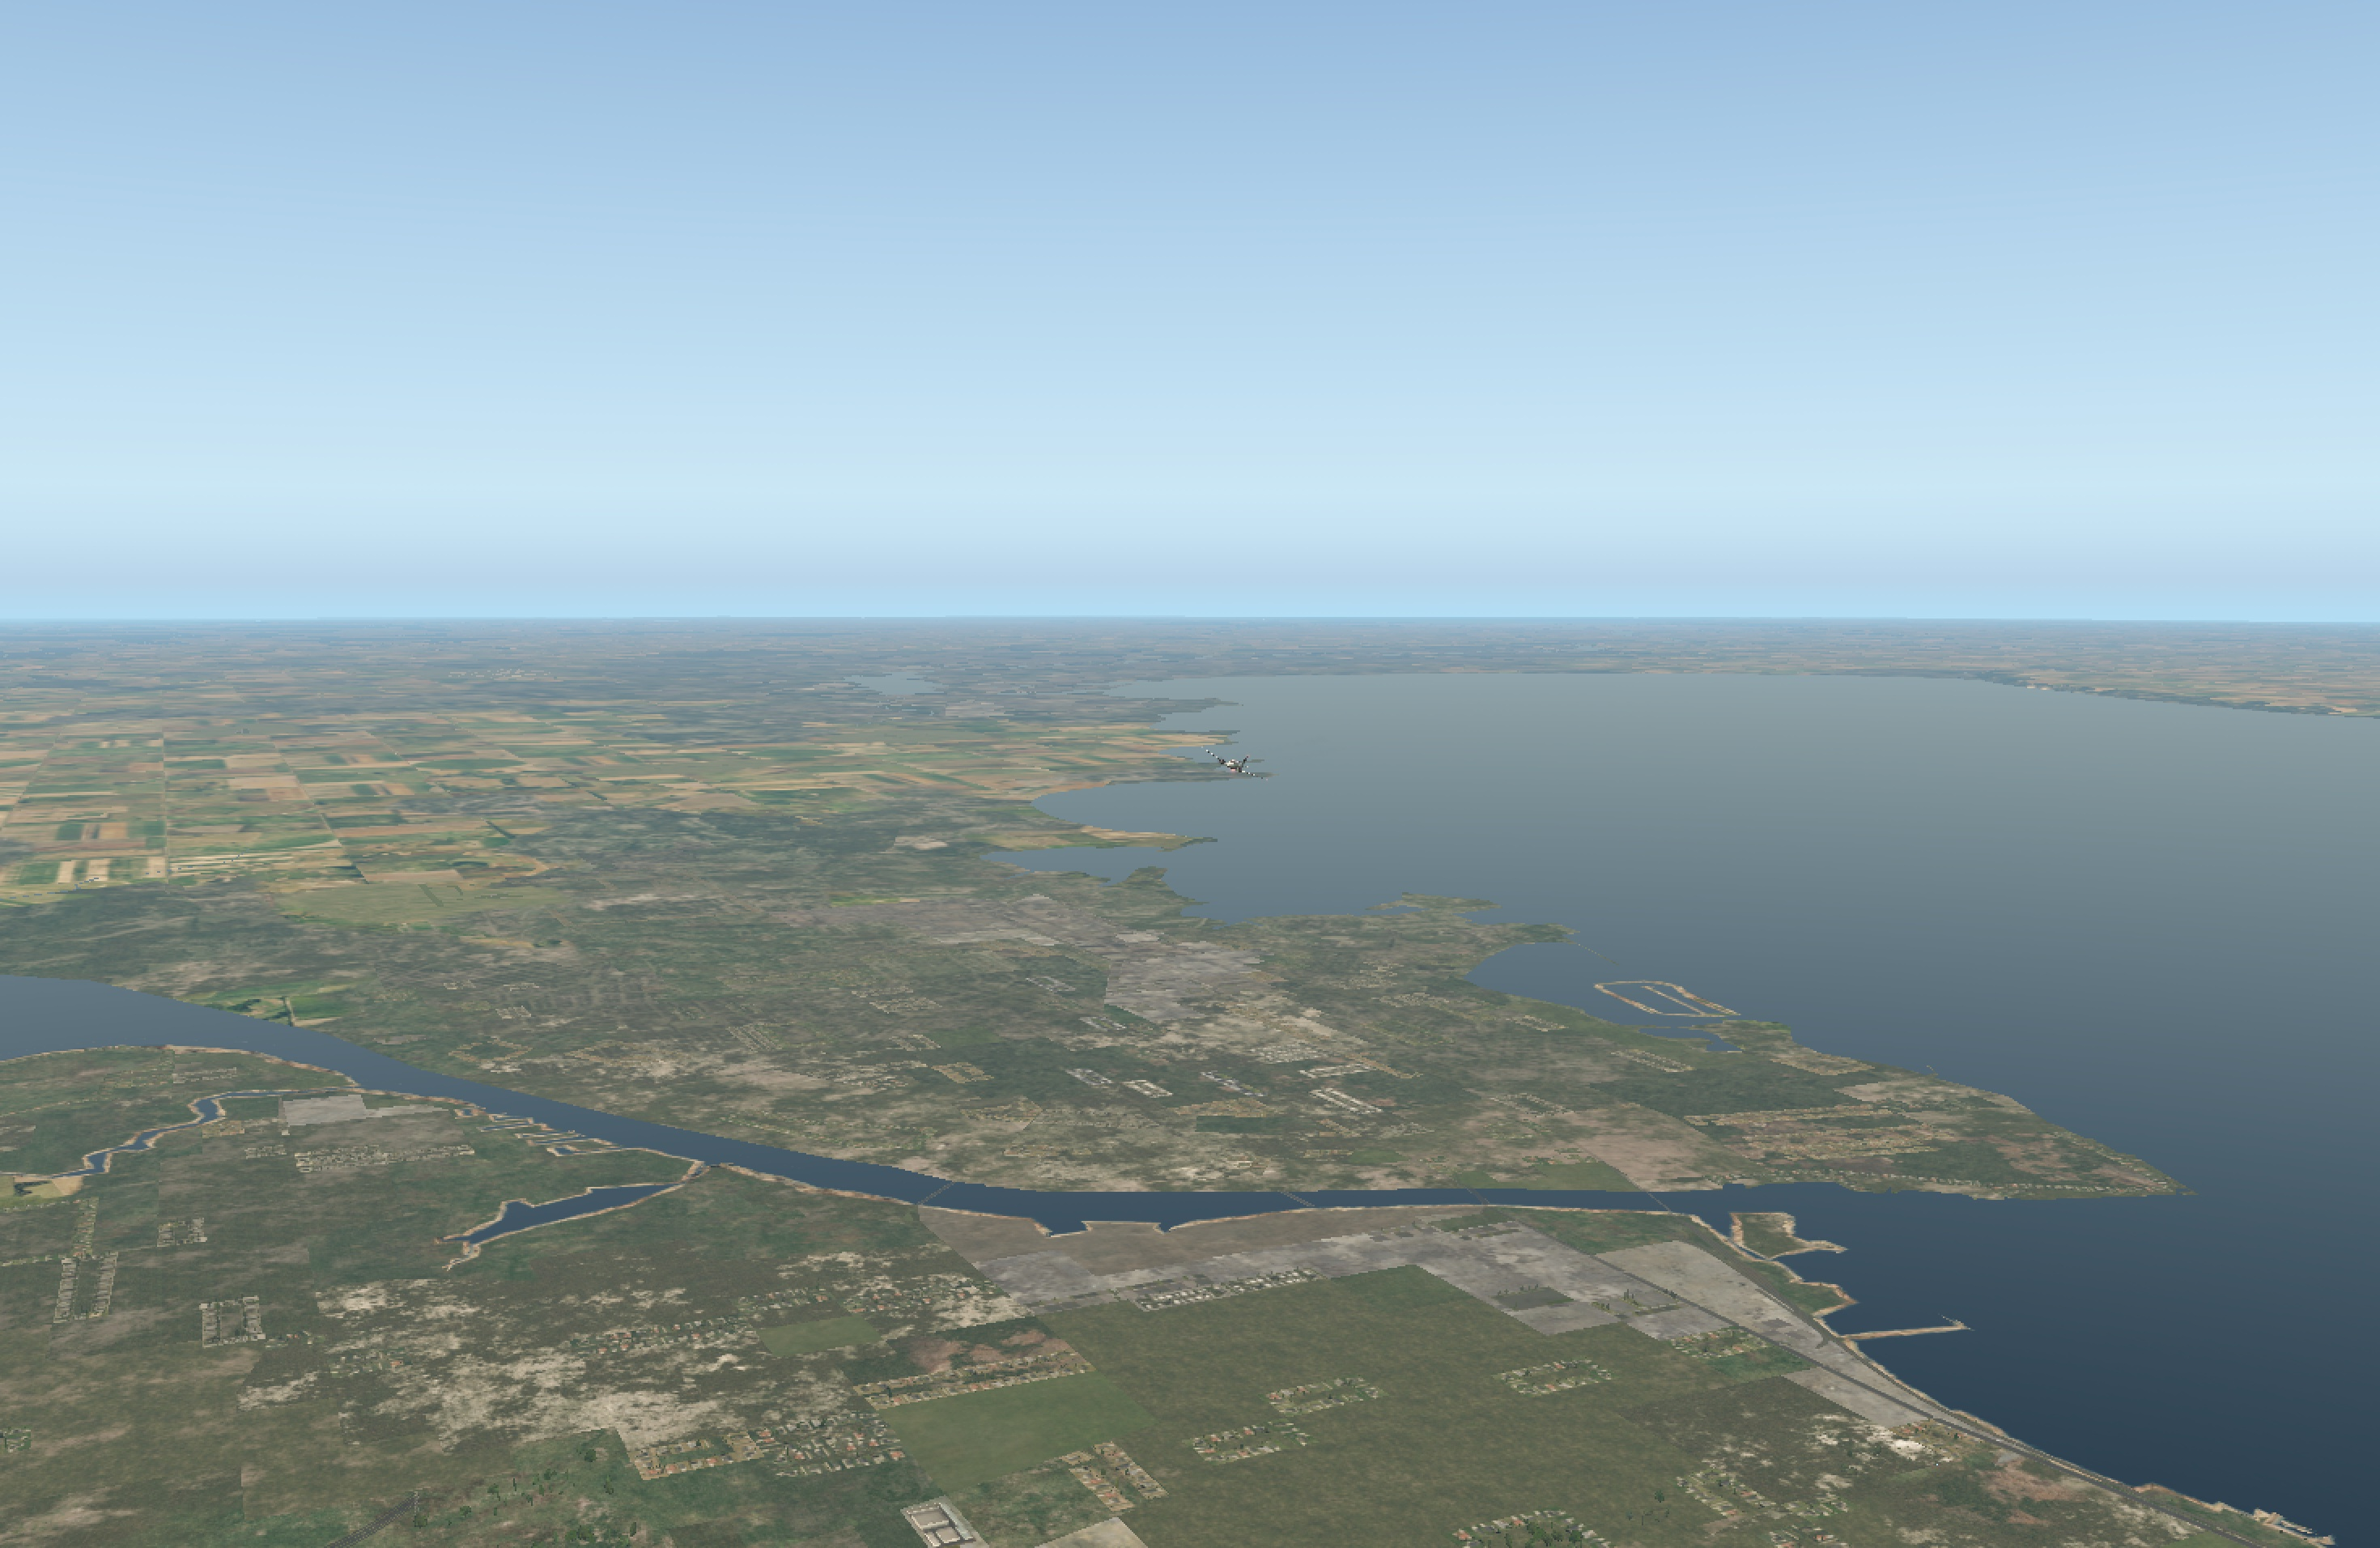aircraft: (1193, 753, 1270, 783)
